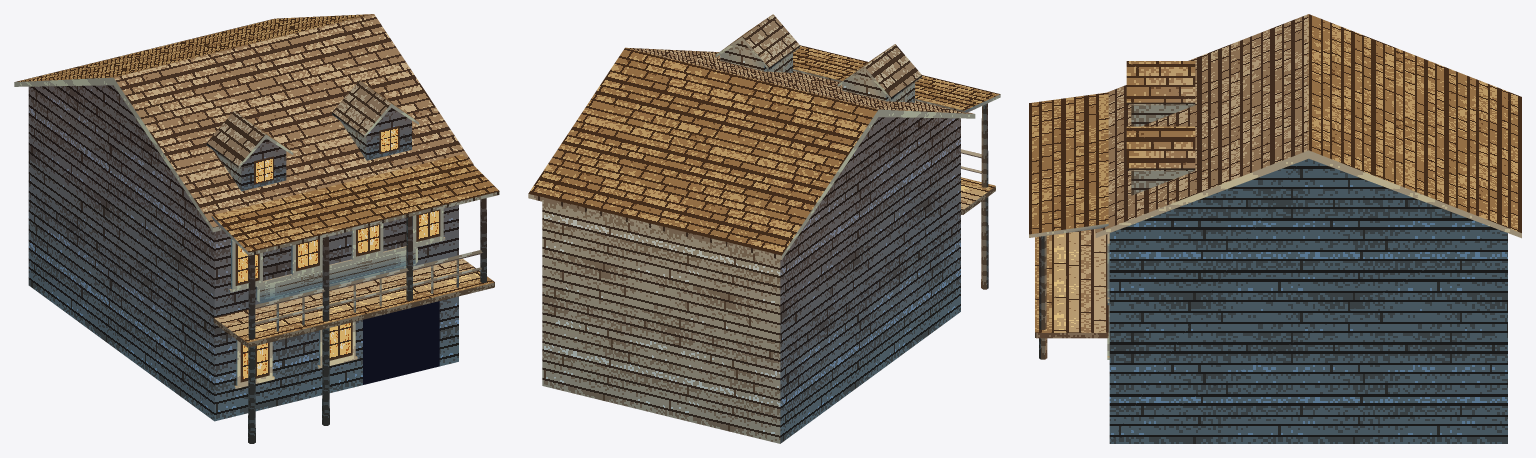
The model's file is wtown.hotel__entry.glb.
The picture shows the model from 3 angles, left to right: view 1: azimuth 30°, elevation 25°; view 2: azimuth 150°, elevation 25°; view 3: azimuth 270°, elevation 25°; orthographic projection. The views are drawn at different scales.
Parts seen in each view (by area): view 1: kit_body, kit_roof, kit_veranda, kit_card_panes, kit_veranda_roof, kit_dormer_roofs, kit_dormers, kit_windows, kit_trim; view 2: kit_body, kit_roof, kit_dormer_roofs, kit_veranda_roof, kit_veranda, kit_dormers; view 3: kit_body, kit_roof, kit_veranda_roof, kit_veranda, kit_dormer_roofs, kit_dormers.
Part boxes in pixels (x1,y1,x2,y2): kit_body: (28, 85, 458, 421); kit_roof: (14, 14, 473, 232); kit_veranda: (214, 198, 494, 443); kit_card_panes: (235, 126, 440, 384); kit_veranda_roof: (211, 154, 499, 255); kit_dormer_roofs: (206, 80, 418, 168); kit_dormers: (215, 108, 411, 191); kit_windows: (229, 208, 445, 388); kit_trim: (256, 246, 417, 303); kit_body: (542, 117, 960, 443); kit_roof: (528, 47, 975, 259); kit_dormer_roofs: (715, 14, 921, 99); kit_veranda_roof: (793, 45, 1000, 112); kit_veranda: (961, 103, 995, 289); kit_dormers: (720, 41, 914, 102); kit_body: (1109, 158, 1507, 443); kit_roof: (1095, 14, 1521, 238); kit_veranda_roof: (1029, 92, 1108, 237); kit_veranda: (1035, 229, 1108, 359); kit_dormer_roofs: (1126, 61, 1195, 170); kit_dormers: (1131, 105, 1194, 195).
Bounding box in the file's own units: 8.1 × 8.25 × 12.37.
Materials: 10 (10 with a texture image).
